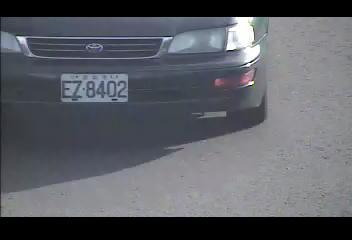plate: (58, 72, 130, 103)
